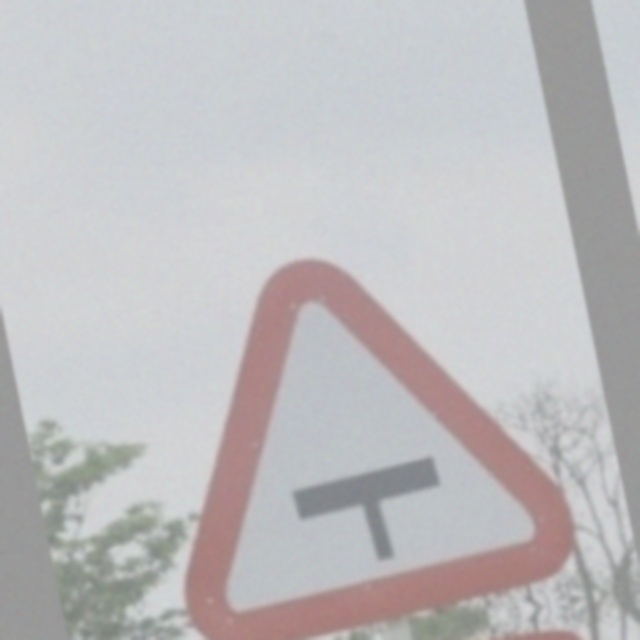T_Intersection: (132, 219, 581, 639)
